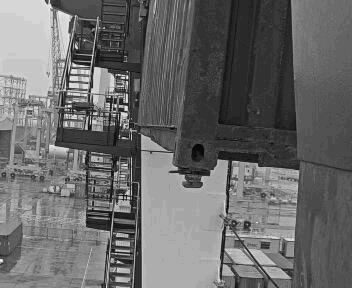twist_lock_1: (174, 162, 218, 195)
